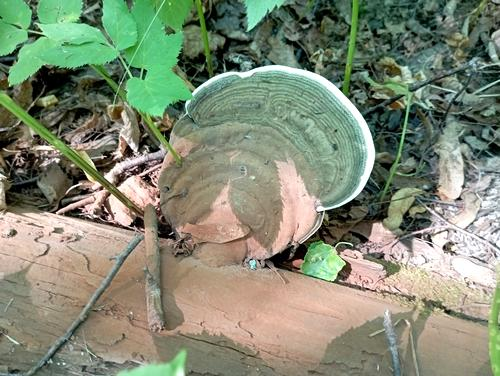Ganoderma - Fruit Body: (156, 62, 382, 272)
